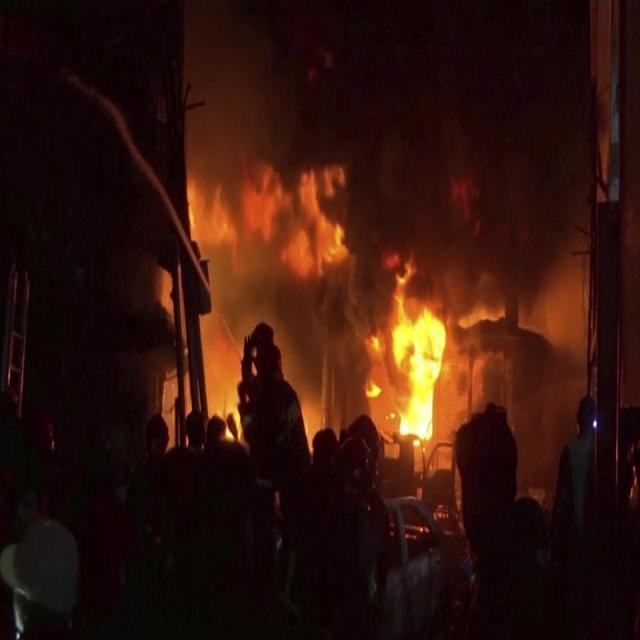Fire: (186, 161, 350, 278), (364, 259, 446, 448), (226, 402, 241, 441)
Smoke: (240, 0, 601, 171), (347, 168, 593, 318), (212, 284, 366, 428)
